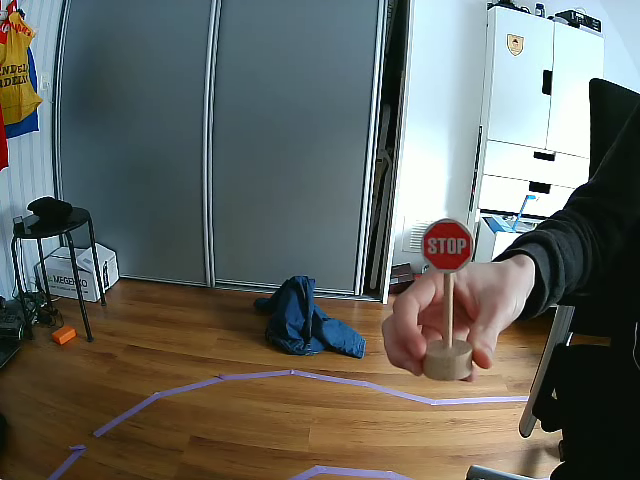stopbord: (421, 218, 474, 276)
